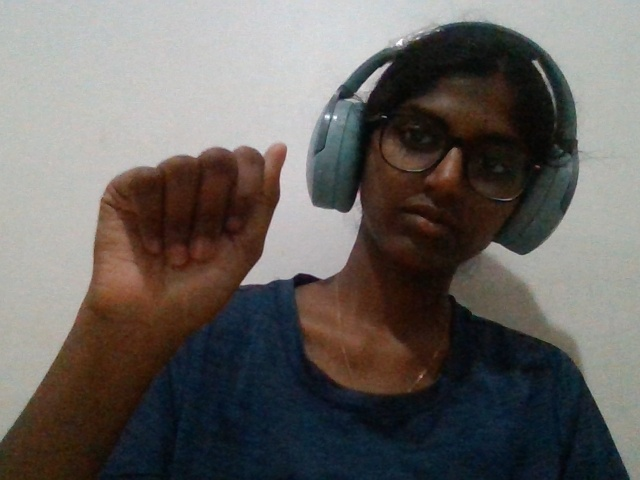A: (41, 123, 297, 409)
